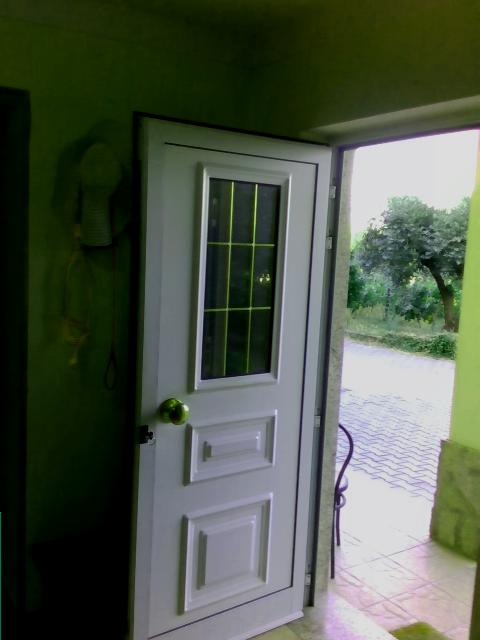open_door: (310, 95, 479, 639)
